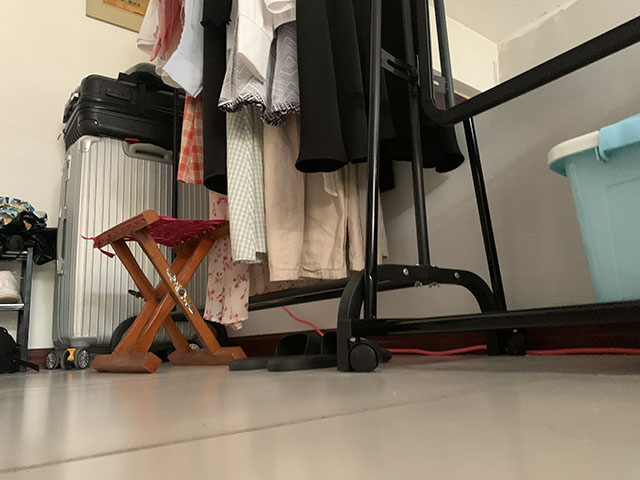slippers: (228, 330, 393, 373)
stool: (79, 208, 248, 375)
wire: (279, 303, 640, 360)
